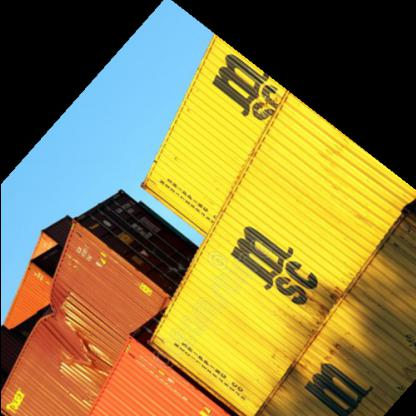Damage: (39, 306, 95, 370)
